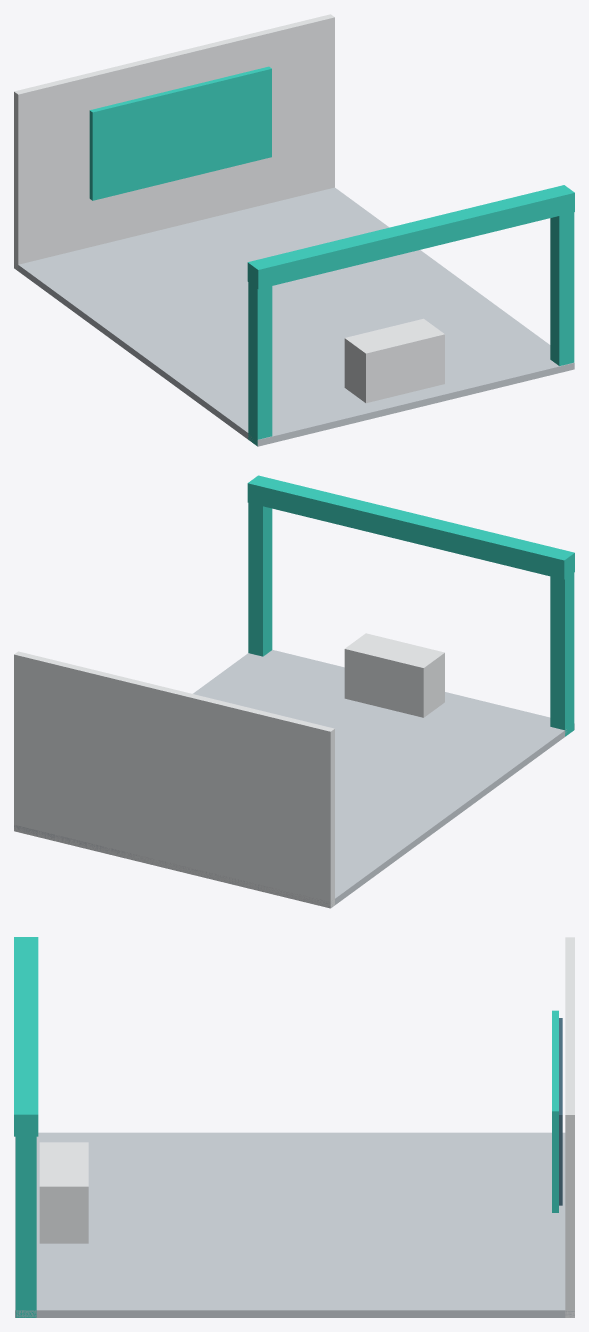
3 renders of one model, top to bottom at view 1: azimuth 30°, elevation 25°; view 2: azimuth 150°, elevation 25°; view 3: azimuth 270°, elevation 25°, orthographic. The views are drawn at different scales.
Visible parts, largest first — view 1: Exhibition Booth Concept; view 2: Exhibition Booth Concept; view 3: Exhibition Booth Concept.
Boxes of the visible parts, x1,y1,x2,y2 form: Exhibition Booth Concept: (14, 14, 574, 446); Exhibition Booth Concept: (14, 475, 574, 908); Exhibition Booth Concept: (14, 937, 574, 1317).
Bounding box in the file's own units: 6 × 3.2 × 8.01.
